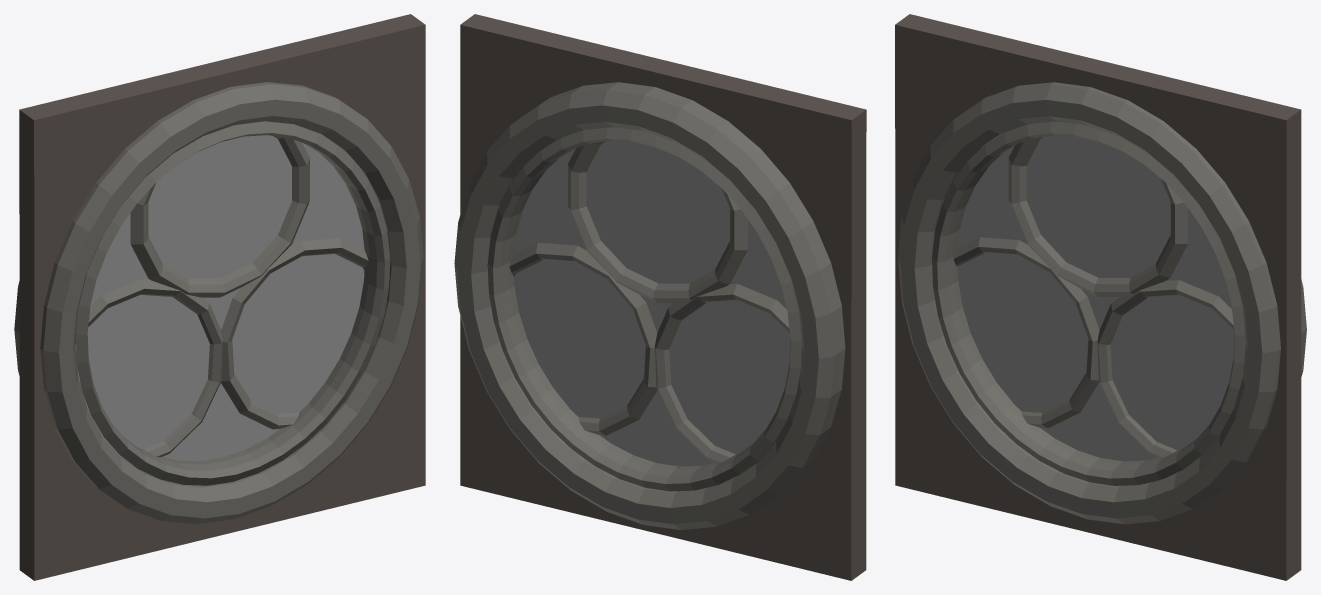
Rendered from MCastle_WindowWall_03.FBX.
The picture shows the model from 3 angles, left to right: view 1: azimuth 30°, elevation 25°; view 2: azimuth 150°, elevation 25°; view 3: azimuth 330°, elevation 25°; orthographic projection.
Visible parts, largest first — view 1: MCastle_WindowWall_03_LOD0, MCastle_WindowWall_03_Glass; view 2: MCastle_WindowWall_03_LOD0, MCastle_WindowWall_03_Glass; view 3: MCastle_WindowWall_03_LOD0, MCastle_WindowWall_03_Glass.
Part boxes in pixels (bbox=[...]): MCastle_WindowWall_03_LOD0: bbox=[14, 14, 425, 580]; MCastle_WindowWall_03_Glass: bbox=[75, 133, 364, 465]; MCastle_WindowWall_03_LOD0: bbox=[454, 14, 866, 580]; MCastle_WindowWall_03_Glass: bbox=[514, 141, 790, 466]; MCastle_WindowWall_03_LOD0: bbox=[895, 14, 1306, 580]; MCastle_WindowWall_03_Glass: bbox=[957, 125, 1242, 461].
Size of what is drawn, in the model's own units: 4.02 by 4.52 by 0.7495.
